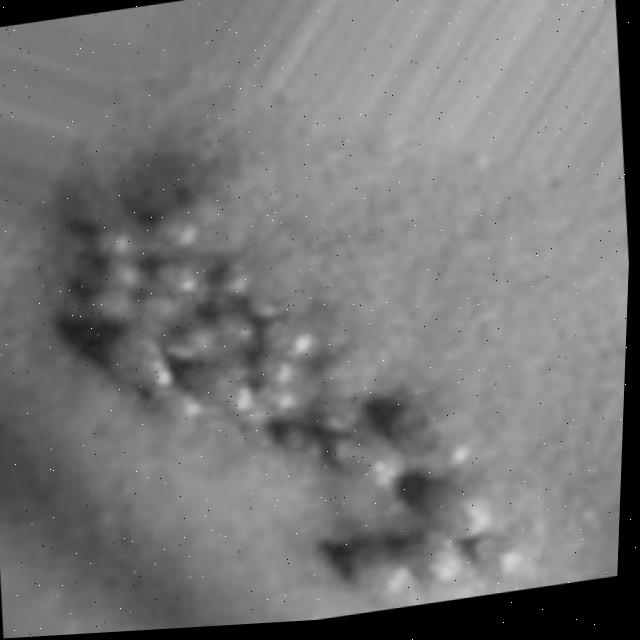Shingles: (29, 114, 565, 637)
